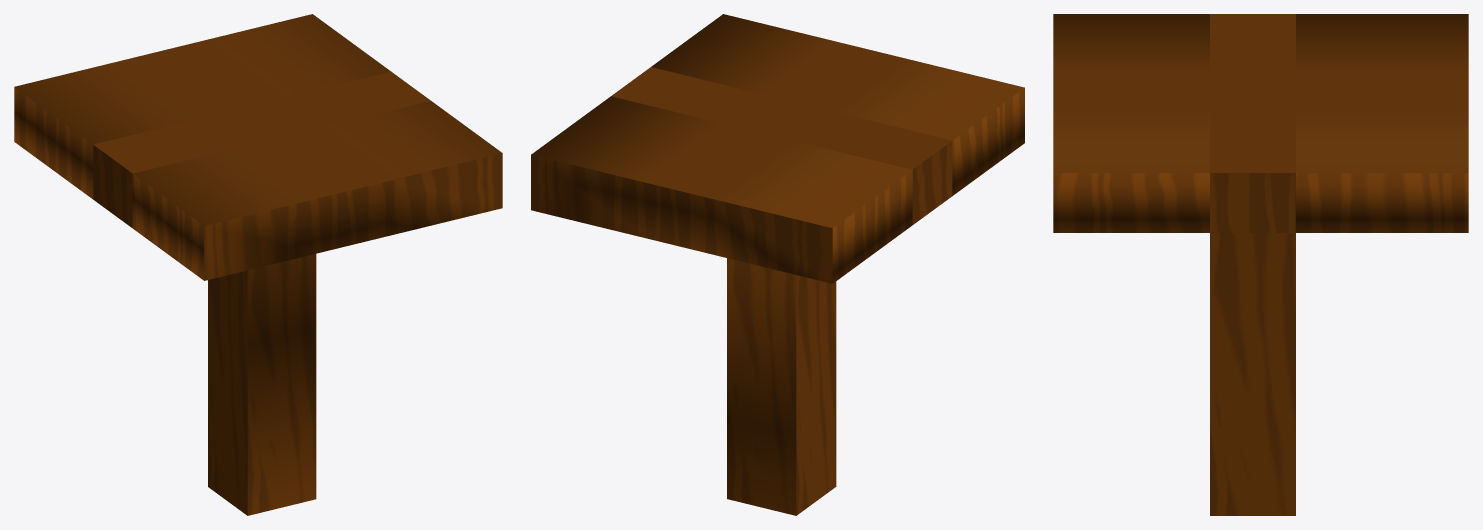
The model's file is Level2-4_BottomPart.fbx.
The picture shows the model from 3 angles, left to right: view 1: azimuth 30°, elevation 25°; view 2: azimuth 150°, elevation 25°; view 3: azimuth 270°, elevation 25°; orthographic projection. The views are drawn at different scales.
Visible parts, largest first — view 1: Cube.010; view 2: Cube.010; view 3: Cube.010.
Boxes of the visible parts, x1=… form: Cube.010: x1=14, y1=14, x2=502, y2=515; Cube.010: x1=531, y1=14, x2=1024, y2=515; Cube.010: x1=1053, y1=14, x2=1468, y2=515.
Bounding box in the file's own units: 872 × 1034 × 962.
